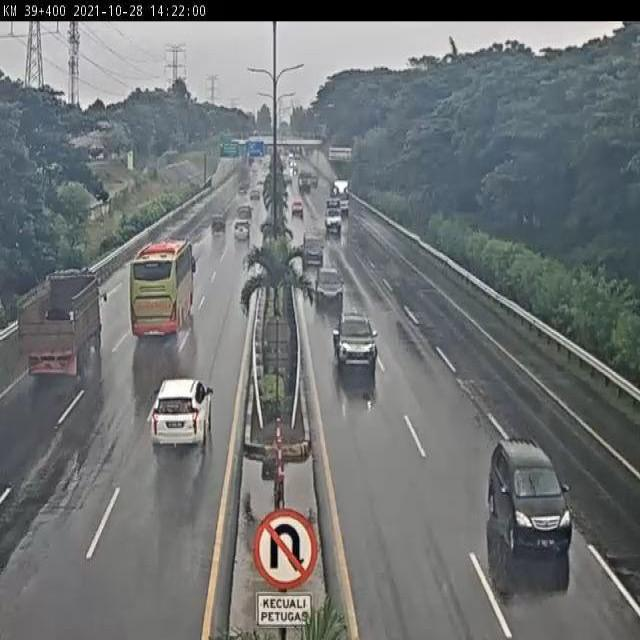big bus: (131, 240, 196, 341)
car: (488, 438, 572, 554), (152, 379, 211, 456), (331, 315, 379, 368), (314, 264, 345, 307), (300, 232, 325, 265), (235, 201, 256, 224), (231, 221, 250, 243), (210, 214, 226, 234), (291, 199, 303, 217)
truck-m-: (18, 275, 102, 381)
truck-s-: (324, 200, 343, 233)
